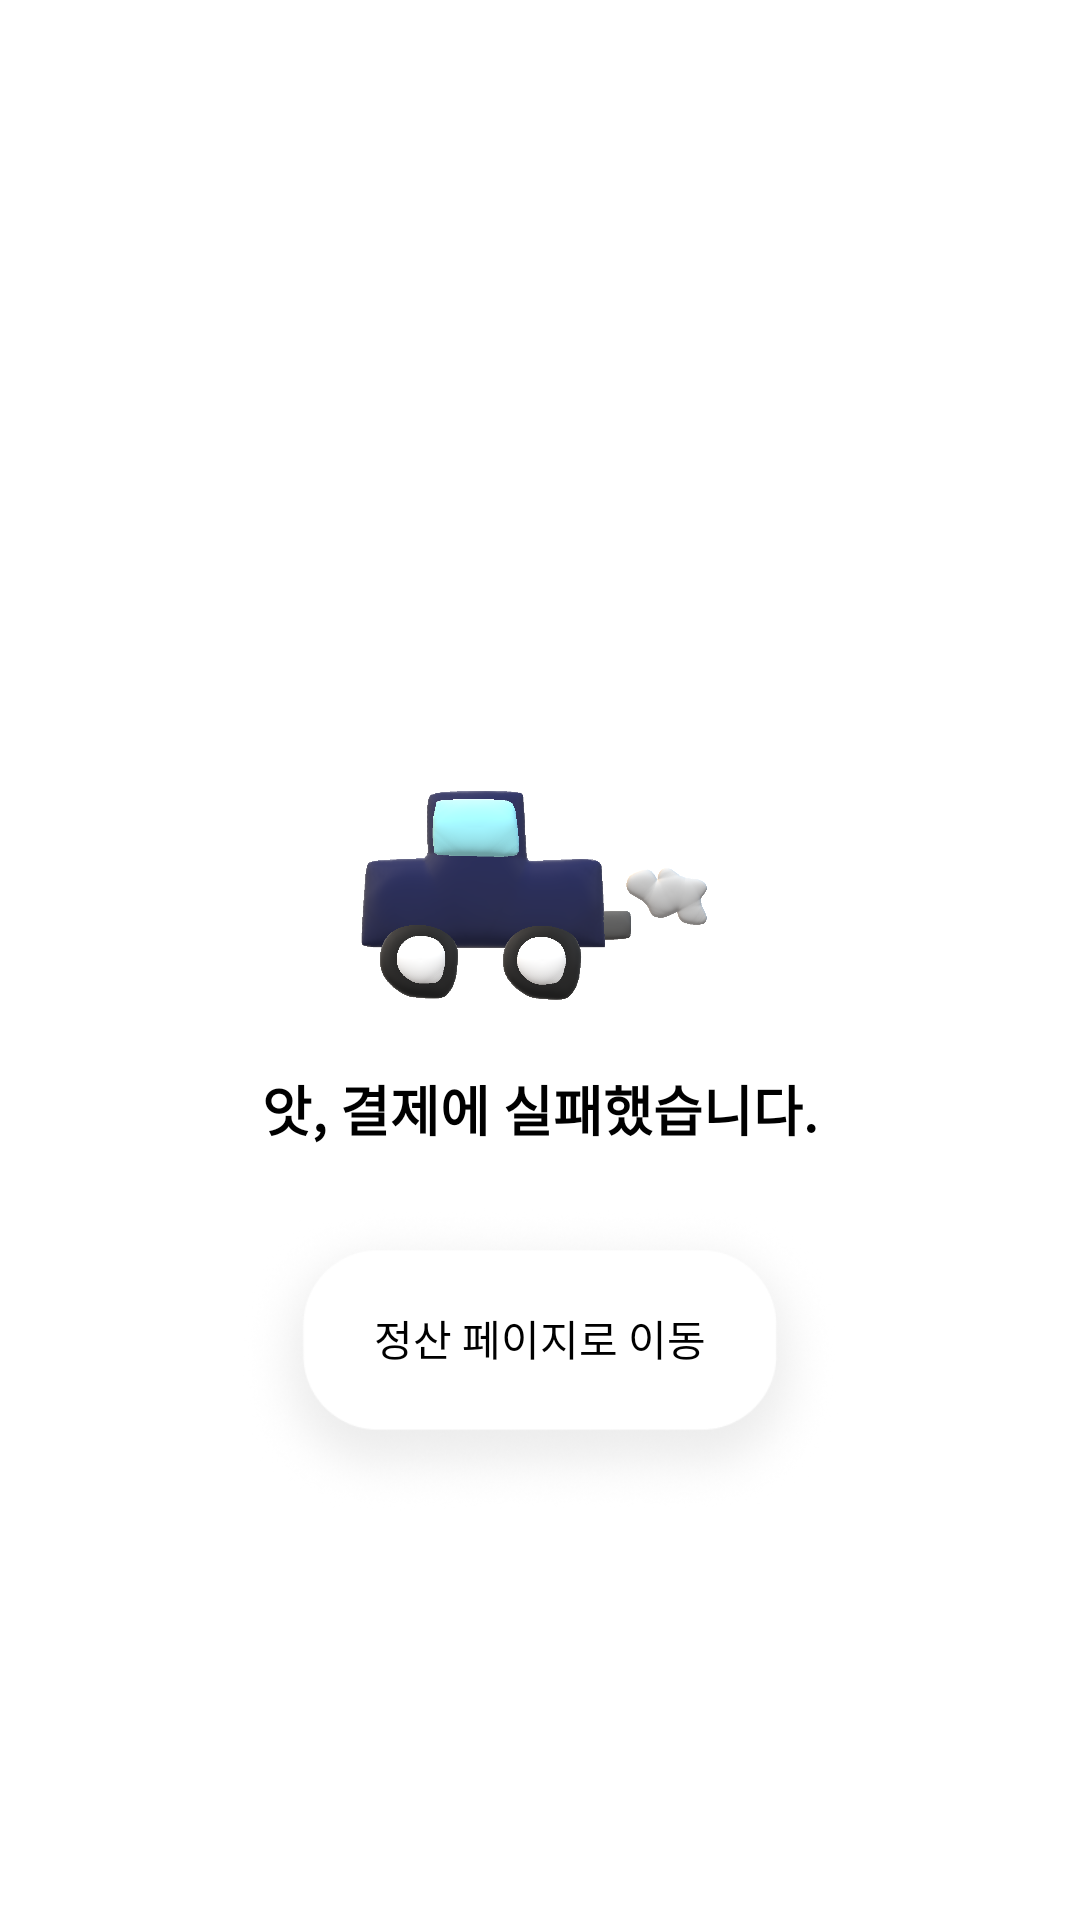

Point at icon controls on the screen. Image size 1080px x 1920px, points as (x,y).
car gone: (534,895)
